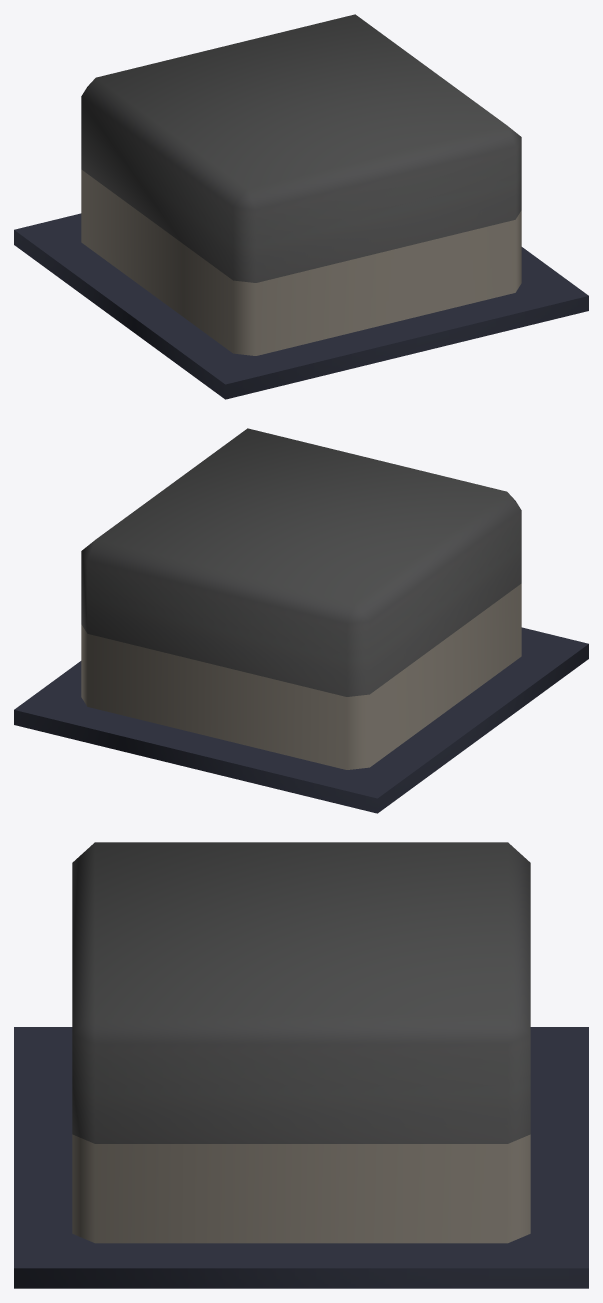
The model's file is RoofAdd_2_A_5.glb.
3 views of the same model, one above another, from view 1: azimuth 30°, elevation 25°; view 2: azimuth 150°, elevation 25°; view 3: azimuth 270°, elevation 25° (orthographic). The views are drawn at different scales.
Parts seen in each view (by area): view 1: RoofAdd_2_A_5; view 2: RoofAdd_2_A_5; view 3: RoofAdd_2_A_5.
Boxes of the visible parts, box(x1,y1,x2,y2) form: RoofAdd_2_A_5: box(14, 14, 588, 399); RoofAdd_2_A_5: box(14, 428, 588, 813); RoofAdd_2_A_5: box(14, 842, 588, 1288).
Size of the model in its own units: 1.6 by 0.7417 by 1.61.
Materials: 1 (1 with a texture image).
